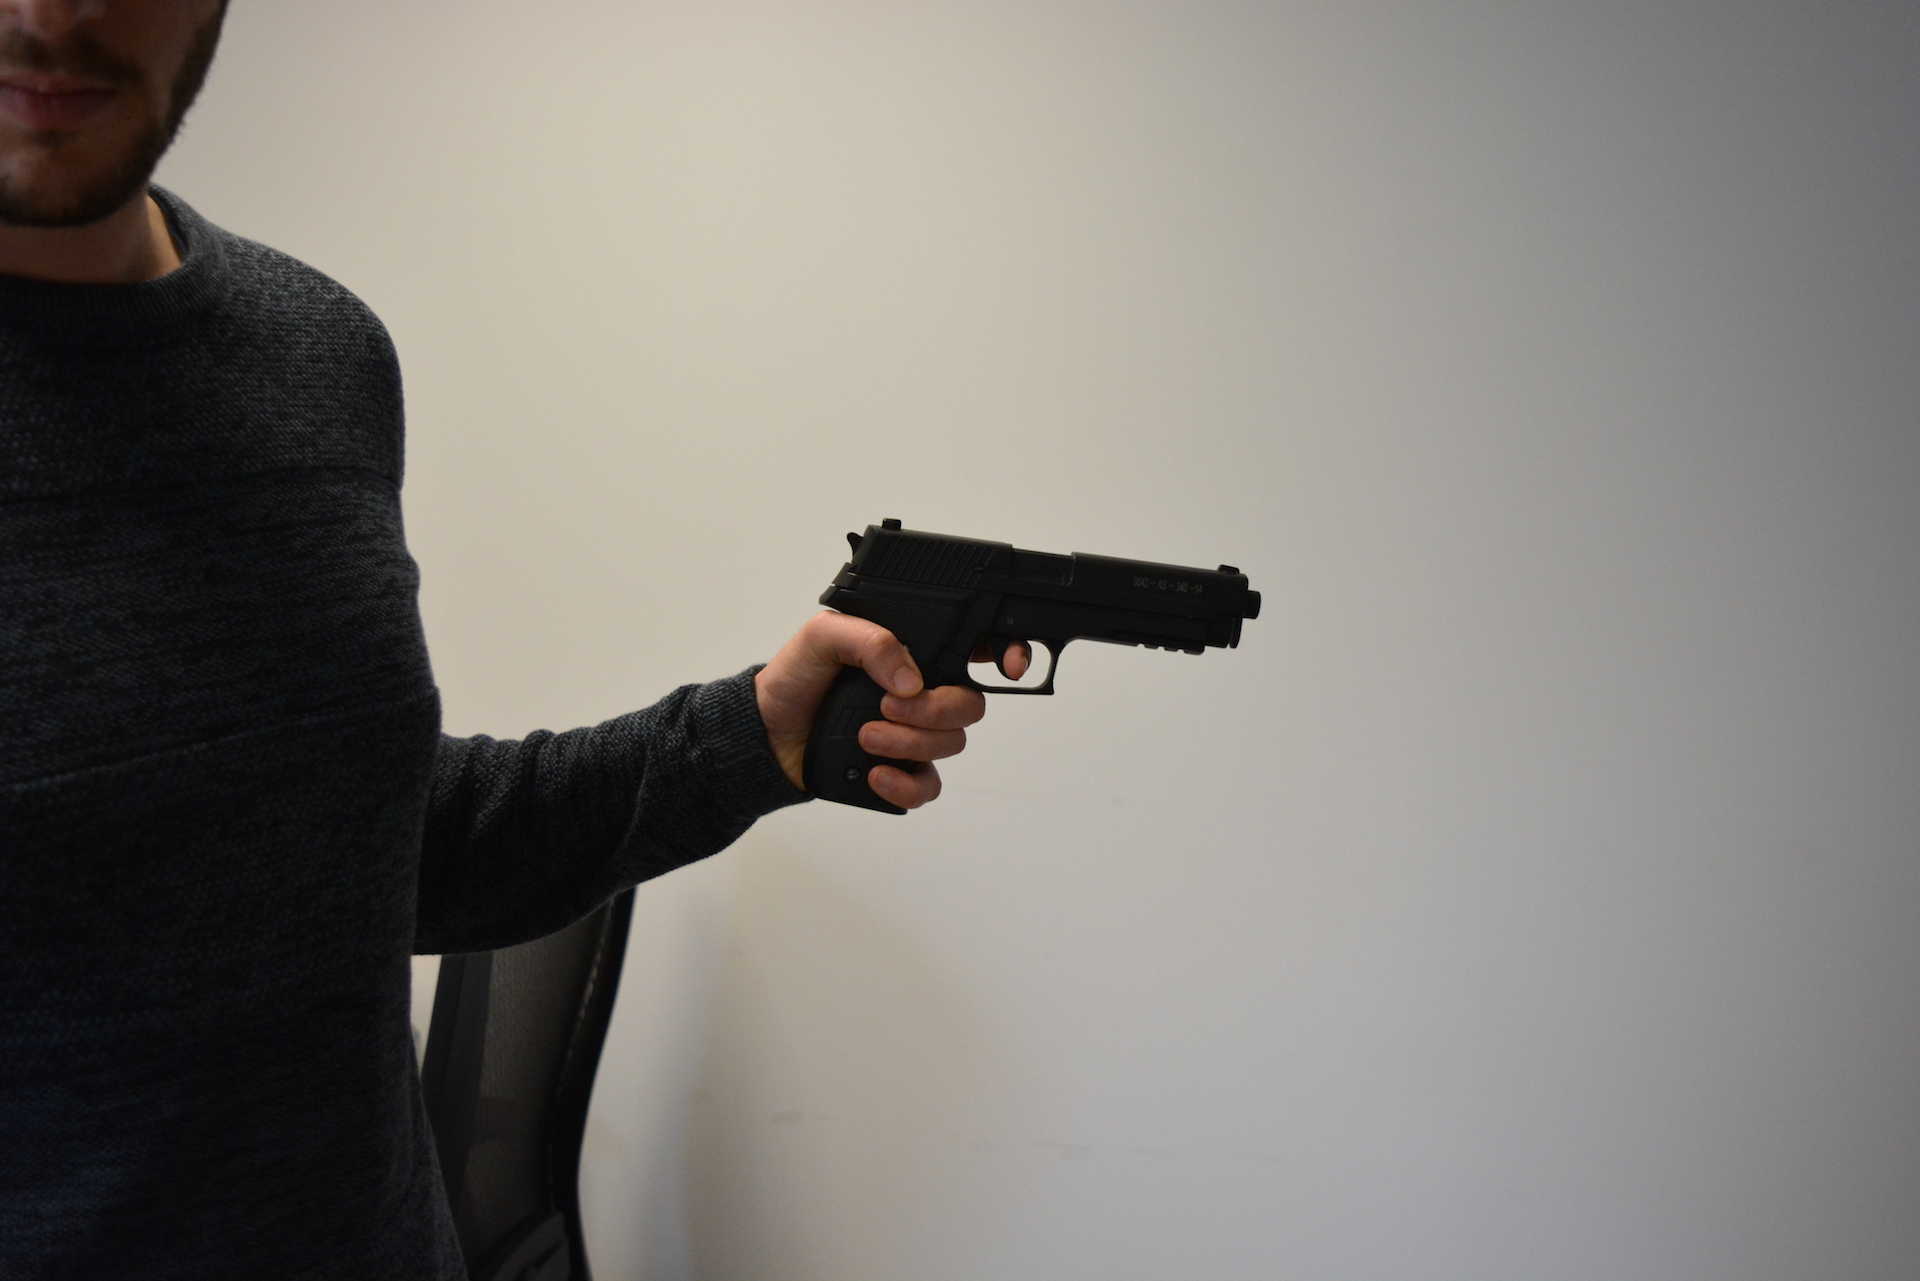pistol: (799, 516, 1262, 818)
